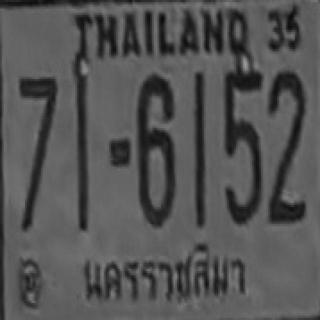N00: (222, 111, 260, 222)
N01: (193, 72, 204, 185)
N02: (266, 69, 306, 185), (267, 108, 305, 221)
N07: (18, 75, 56, 160)
P30: (82, 240, 253, 310)
